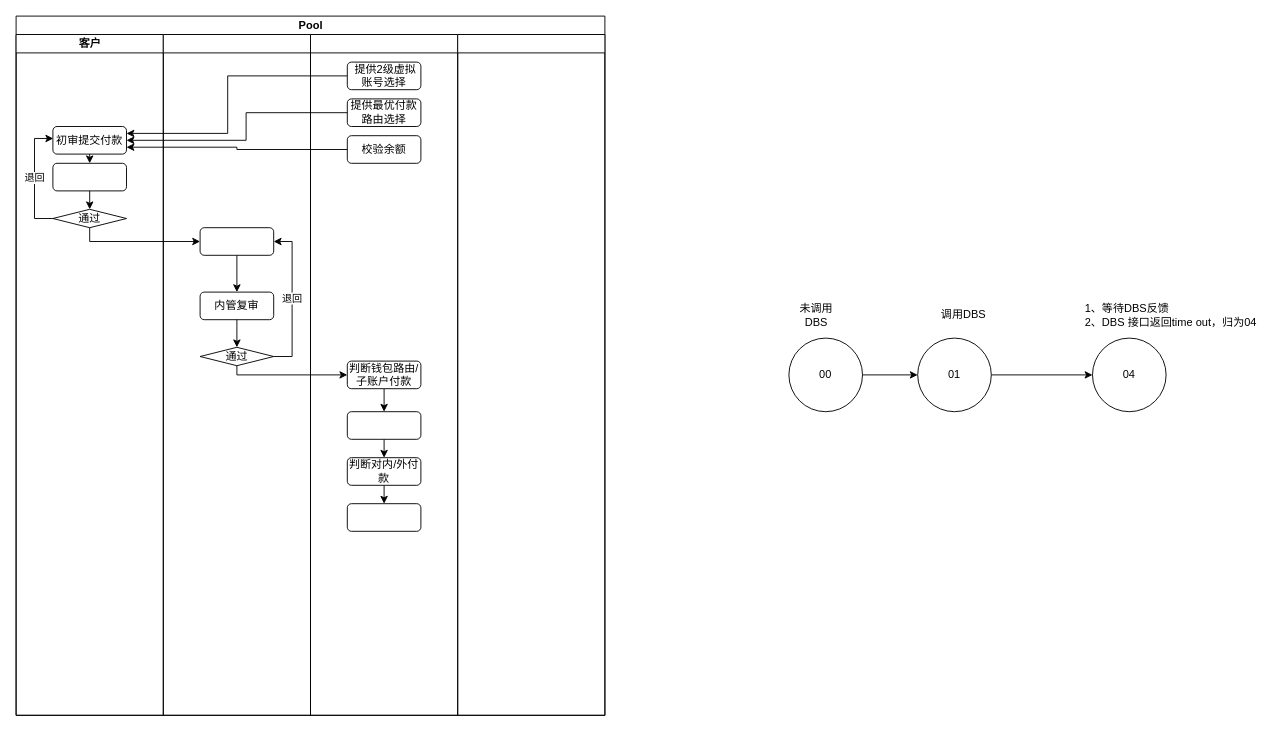
This 1274x731 diagram has some shape labels left out. Each missing label, with the box of its shape:
健宇: (162, 34, 310, 715)
内管初审: (199, 227, 274, 255)
判断是否需要集资: (346, 503, 421, 531)
判断默认出钱账号: (346, 411, 421, 439)
复审审核: (52, 162, 126, 191)
支付通道: (457, 34, 605, 715)
联易融: (310, 34, 458, 715)
